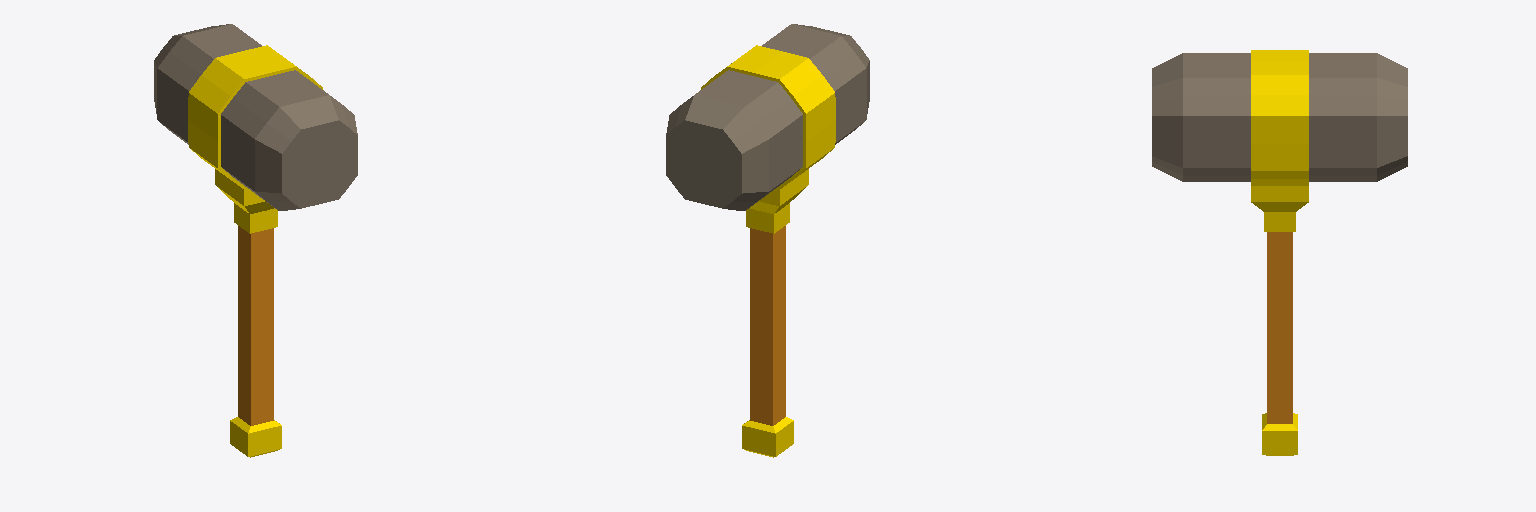
3 renders of one model, left to right at view 1: azimuth 30°, elevation 25°; view 2: azimuth 150°, elevation 25°; view 3: azimuth 270°, elevation 25°, orthographic.
Visible parts, largest first — view 1: Hammer; view 2: Hammer; view 3: Hammer.
Boxes of the visible parts, x1,y1,x2,y2 form: Hammer: [154, 24, 357, 457]; Hammer: [666, 24, 869, 457]; Hammer: [1152, 50, 1407, 455].
Bounding box in the file's own units: 2.13 × 7.42 × 4.45.
Materials: 1 (1 with a texture image).